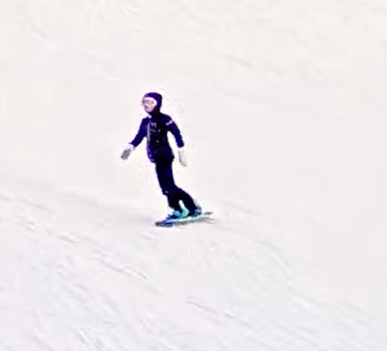snowboarder: (120, 86, 217, 229)
